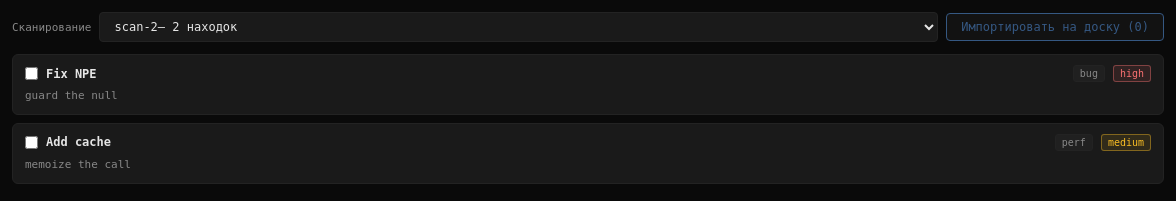
ScansPanel › import button is disabled until a finding is selected
The width and height of the screenshot is (1176, 201).
Expected: the button with test id "scans-import" is disabled, [946,13,1164,41]
Click the checkbox with test id "import-select-f1" at (32, 74), box [25,67,38,80]
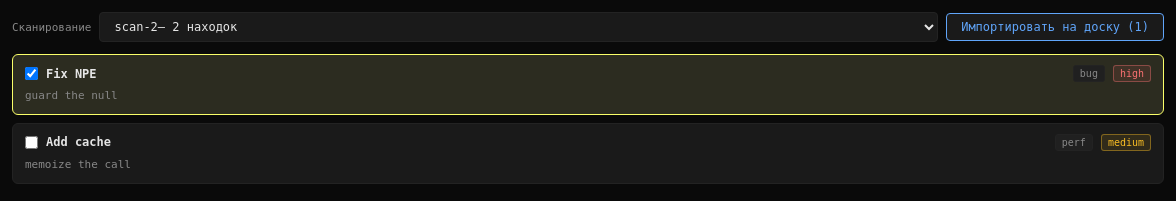
Result: the button with test id "scans-import" is enabled at [946,13,1164,41]
